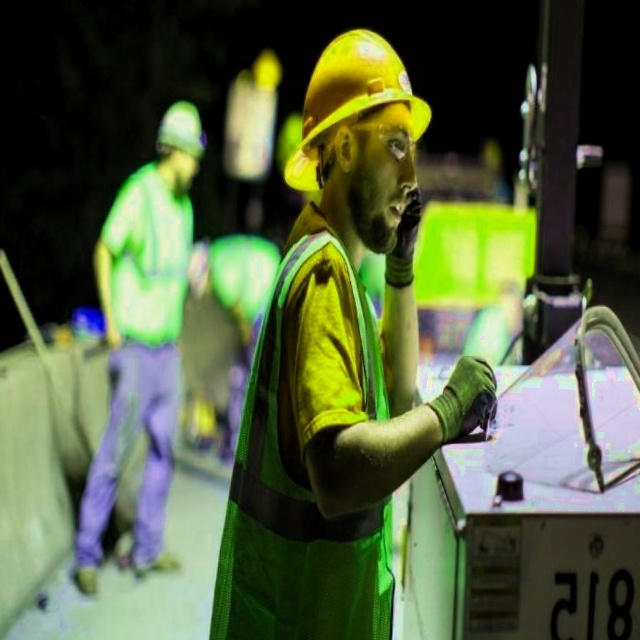Con_Casco: (299, 20, 432, 237)
Con_Chaleco: (209, 231, 418, 640)
